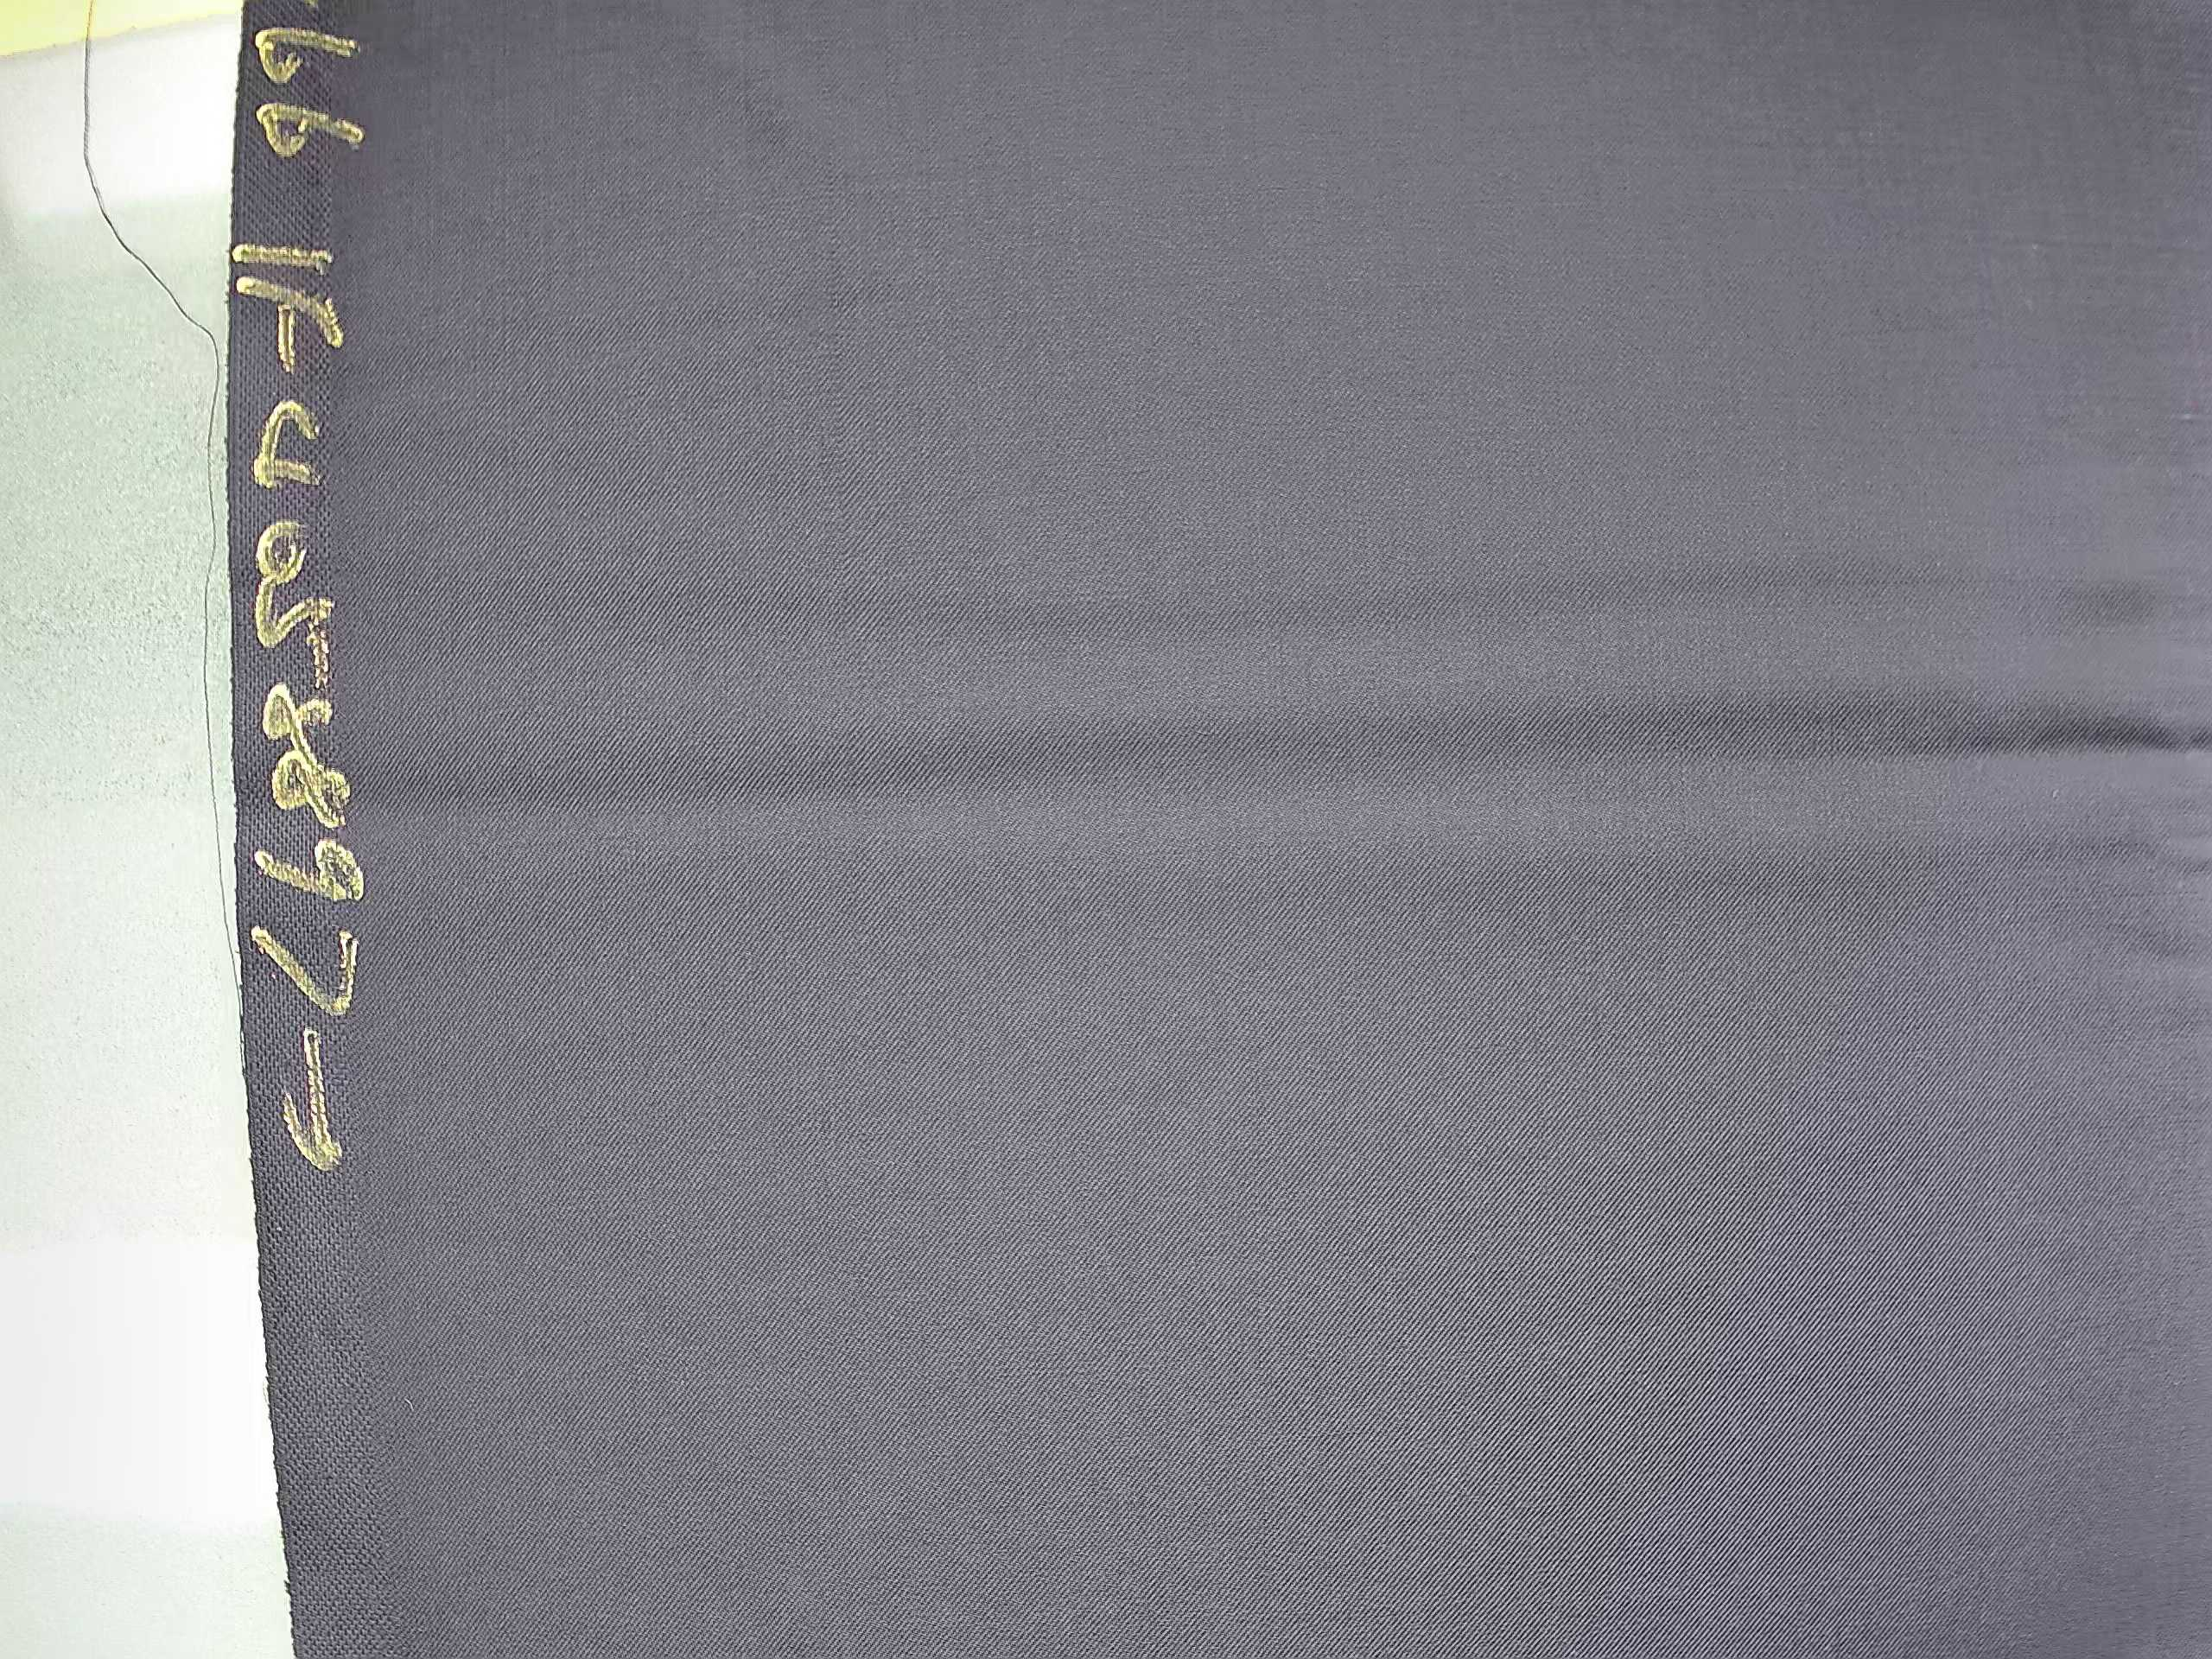hanging-warp: (799, 59, 869, 664)
